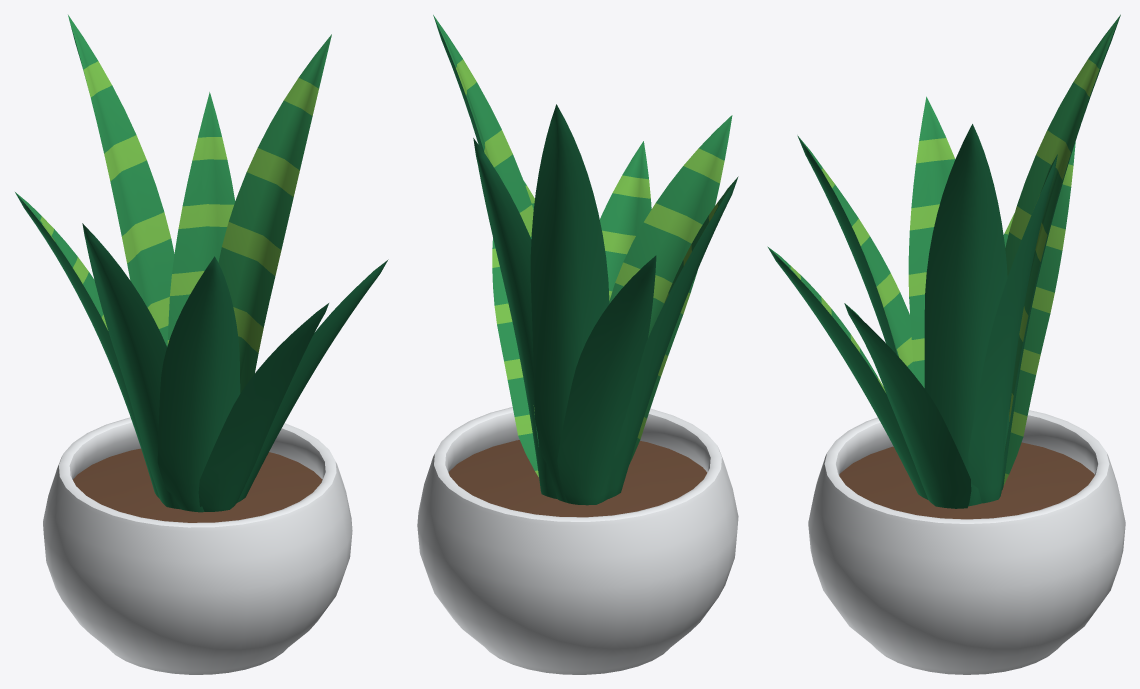
Rendered from planta_espada_listrada.glb.
3 renders of one model, left to right at view 1: azimuth 30°, elevation 25°; view 2: azimuth 150°, elevation 25°; view 3: azimuth 270°, elevation 25°, orthographic. The views are drawn at different scales.
Visible parts, largest first — view 1: planta_espada_listrada; view 2: planta_espada_listrada; view 3: planta_espada_listrada.
Boxes of the visible parts, left/top/right/bottom form: planta_espada_listrada: left=15, top=15, right=388, bottom=674; planta_espada_listrada: left=417, top=15, right=738, bottom=674; planta_espada_listrada: left=767, top=14, right=1125, bottom=674.
Size of the model in its own units: 0.2635 by 0.5351 by 0.2935.
Materials: 1 (1 with a texture image).
